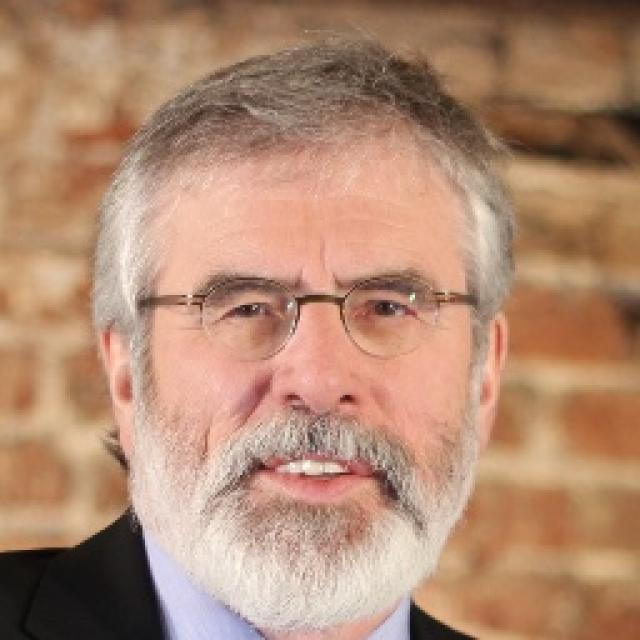earlobe: (101, 320, 135, 468), (475, 313, 509, 457)
